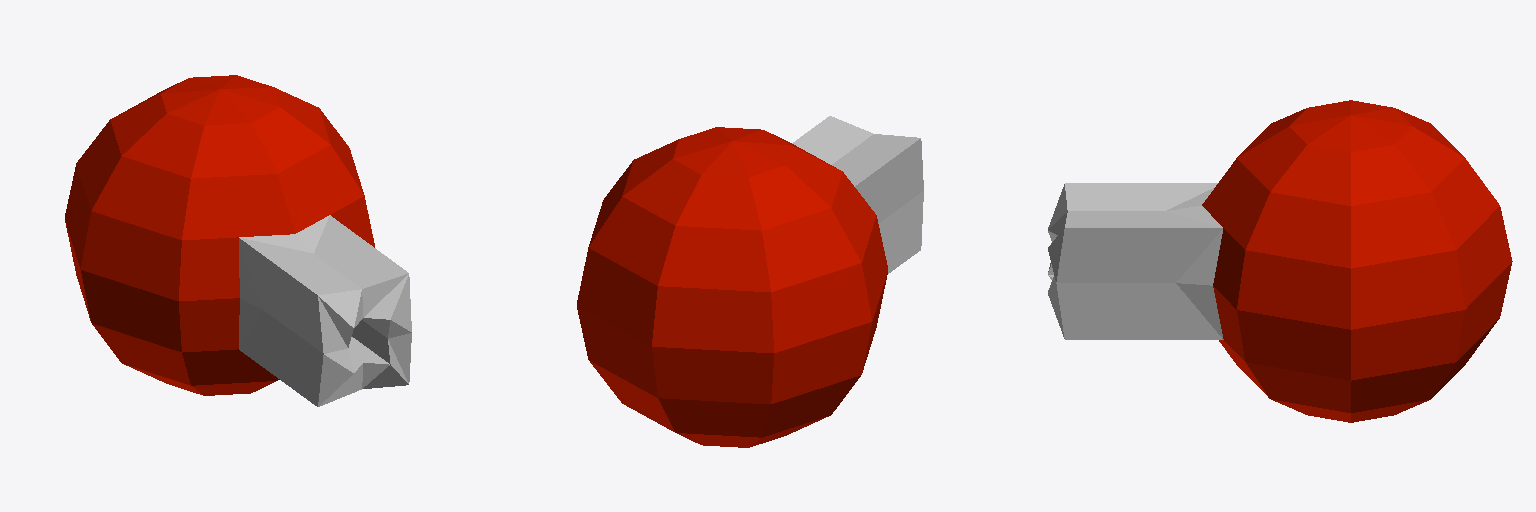
The model's file is TurretProbe.obj.
3 renders of one model, left to right at view 1: azimuth 30°, elevation 25°; view 2: azimuth 150°, elevation 25°; view 3: azimuth 270°, elevation 25°, orthographic.
Parts seen in each view (by area): view 1: Turret.001_Turret; view 2: Turret.001_Turret; view 3: Turret.001_Turret.
Part boxes in pixels (bbox=[...]): Turret.001_Turret: bbox=[65, 75, 411, 406]; Turret.001_Turret: bbox=[577, 116, 923, 447]; Turret.001_Turret: bbox=[1048, 100, 1512, 422].
Size of the model in its own units: 0.4 by 0.3848 by 0.5757.